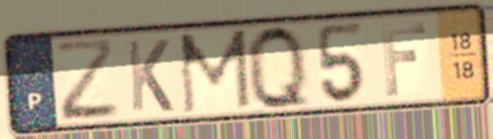5: (313, 19, 368, 107)
F: (378, 20, 430, 99)
K: (123, 37, 177, 114)
M: (175, 26, 254, 117)
Q: (243, 21, 315, 114)
Z: (51, 35, 124, 125)
